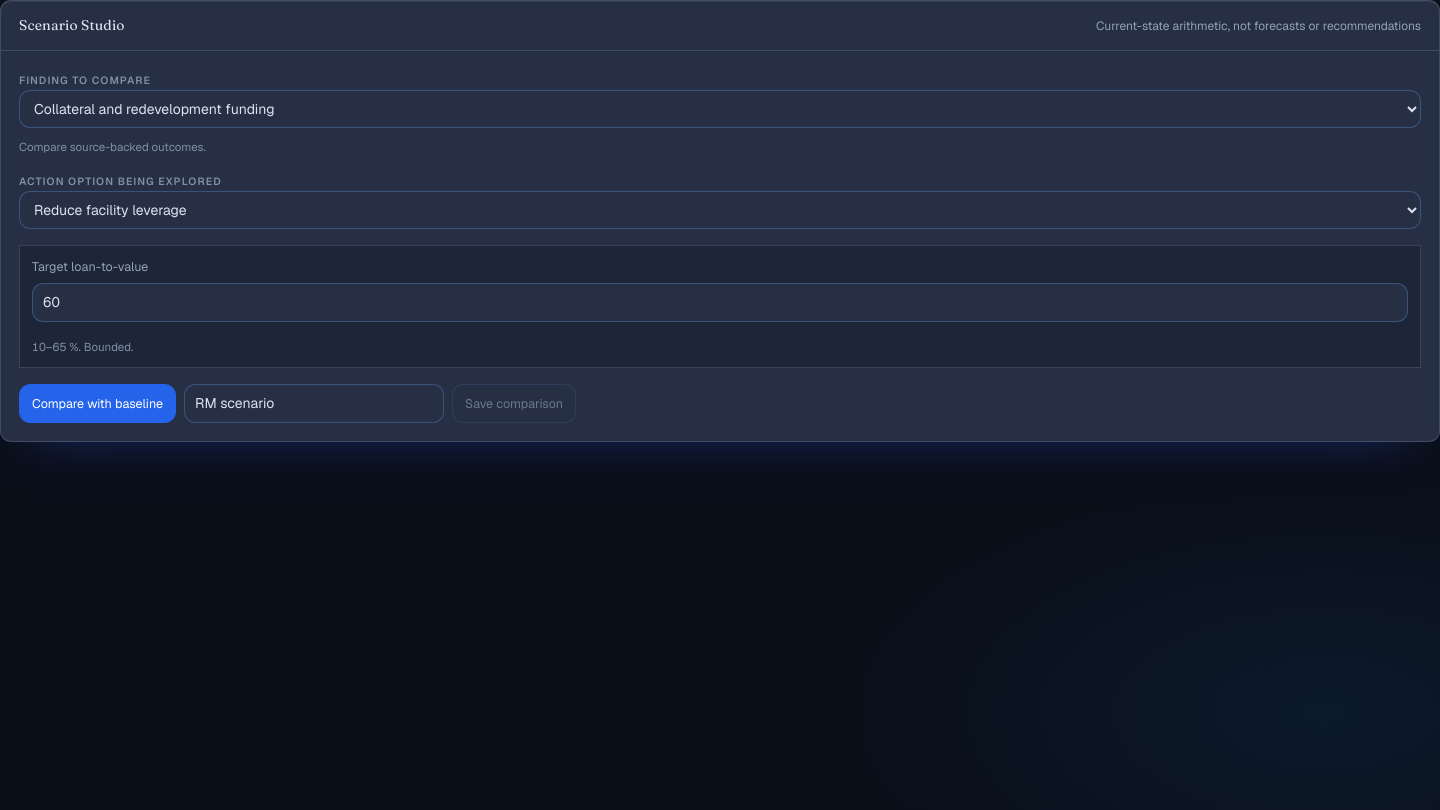
Test: ScenarioStudio › compares metrics and makes unavailable data explicit
Click the button "Compare with baseline".
click(98, 404)  # box 19,384 -> 176,423
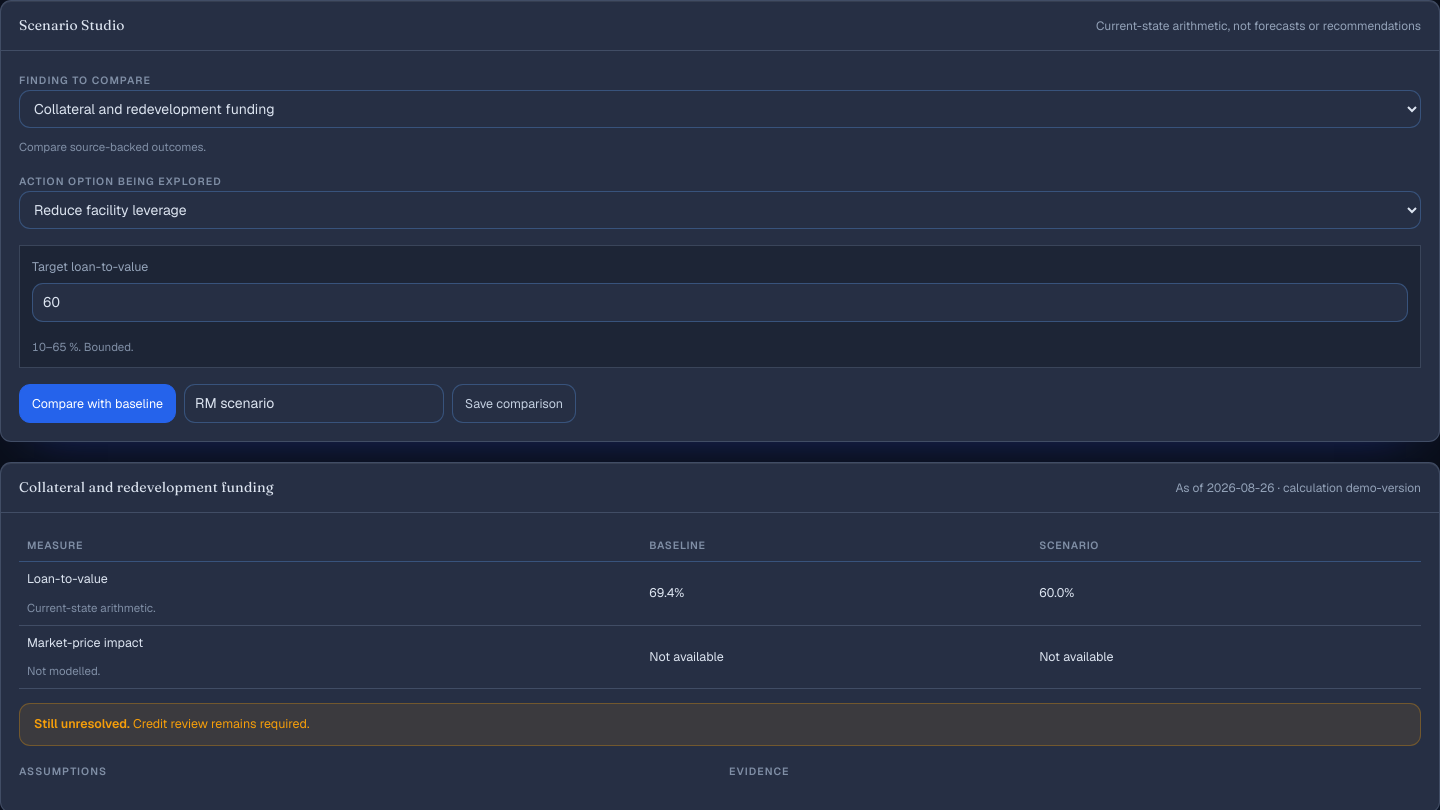
Result: the text "Loan-to-value" is shown at 27,570 -> 108,587
Result: the text "Not modelled." is shown at 27,663 -> 100,678
Result: the text "Credit review remains required." is shown at 133,715 -> 310,732
